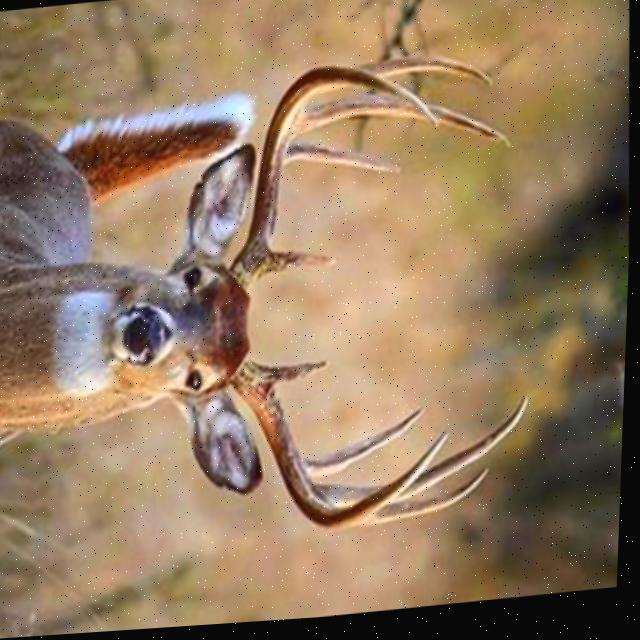L-F: (224, 70, 440, 303)
L-G1: (259, 252, 337, 283)
L-G2: (285, 147, 402, 179)
R-F: (226, 357, 452, 536)
R-G1: (265, 364, 332, 393)
R-G2: (305, 410, 429, 485)
